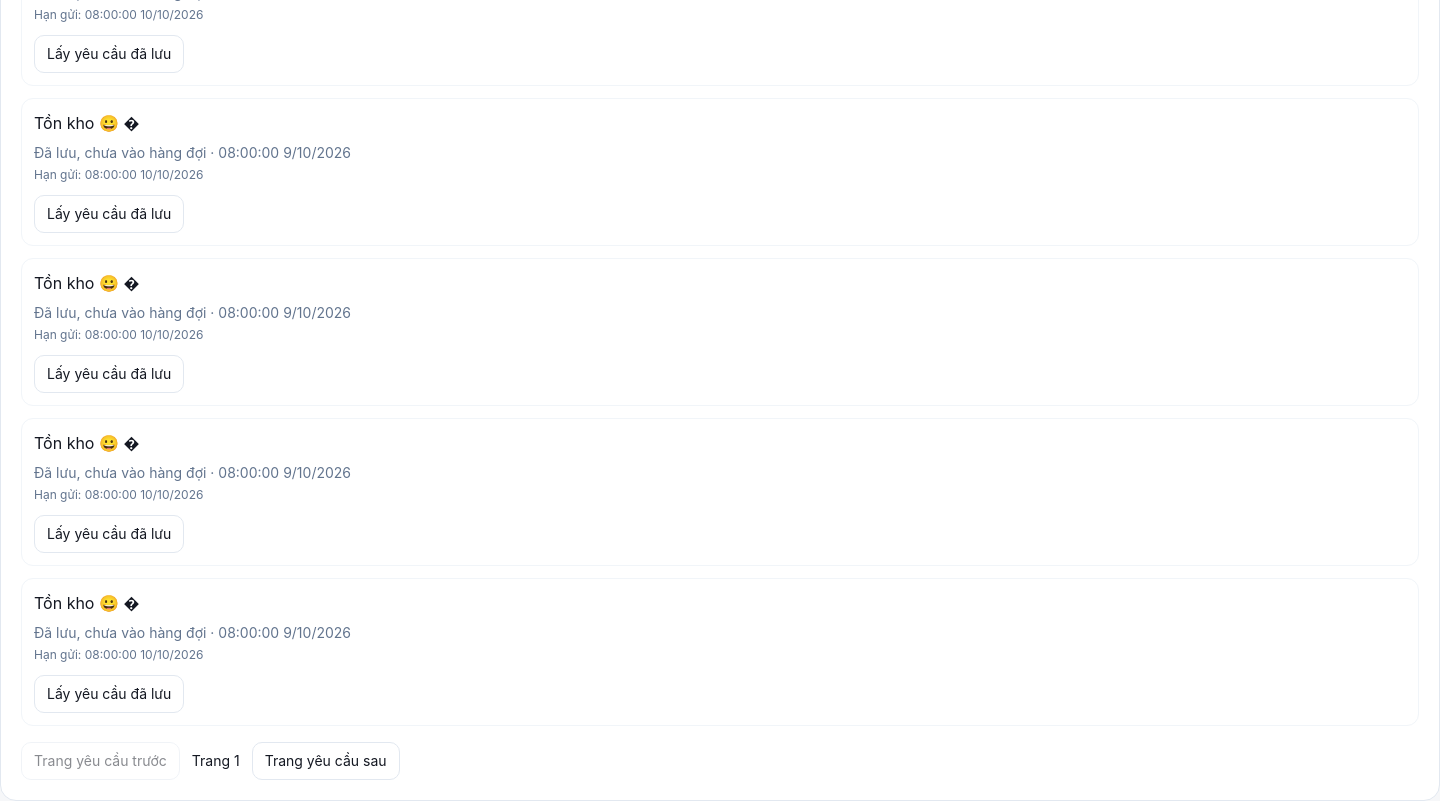
Scenario: paginates25 owners and verifies the requested offset
(page scrolled)
Expected: the text "Trang 1" is shown, [192,751,240,771]
Click the button "Trang yêu cầu sau" at (326, 761), box [252,742,400,780]
(page scrolled)
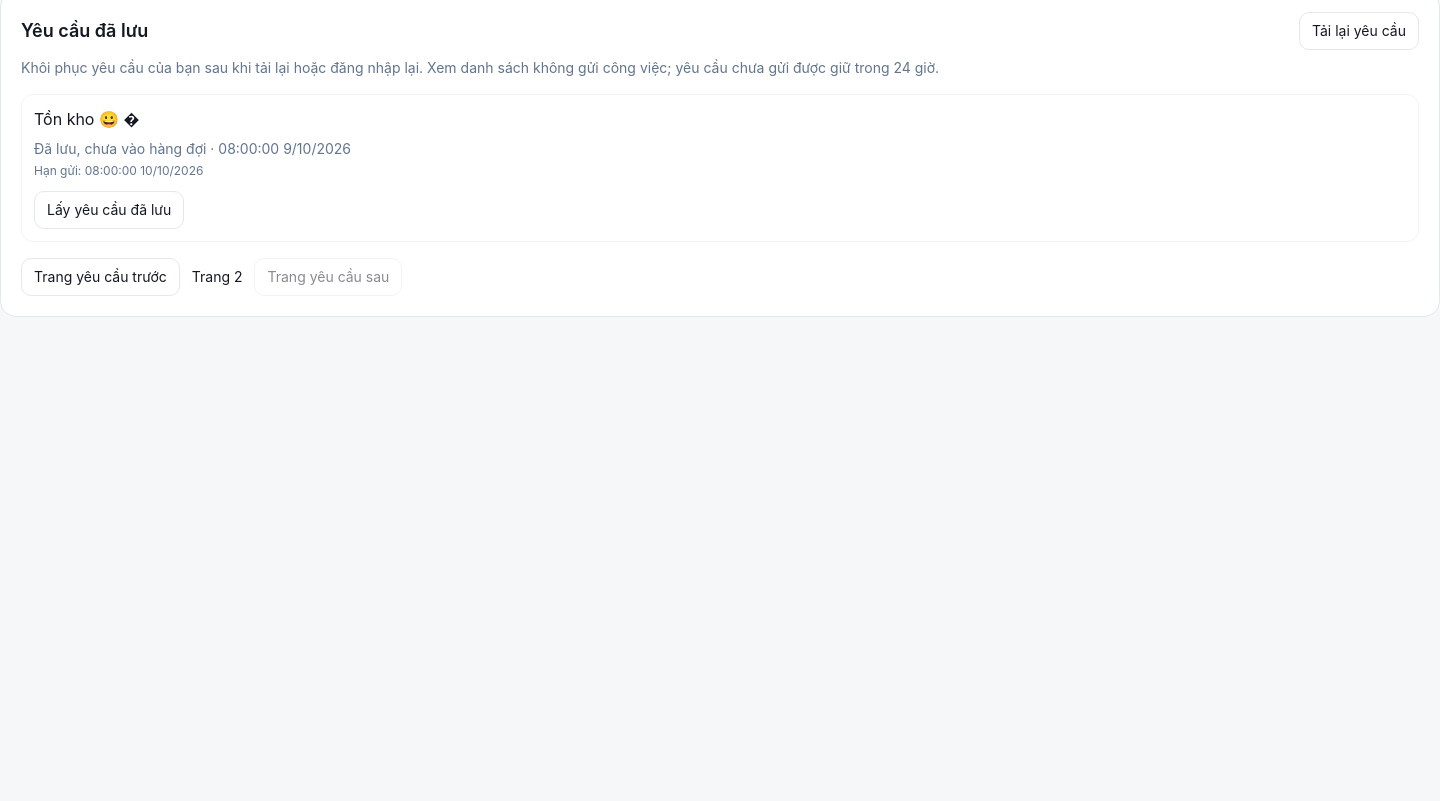
Now the text "Trang 2" is shown, box [192,267,242,287]
Click the button "Trang yêu cầu trước" at (100, 277), box [21,258,180,296]
(page scrolled)
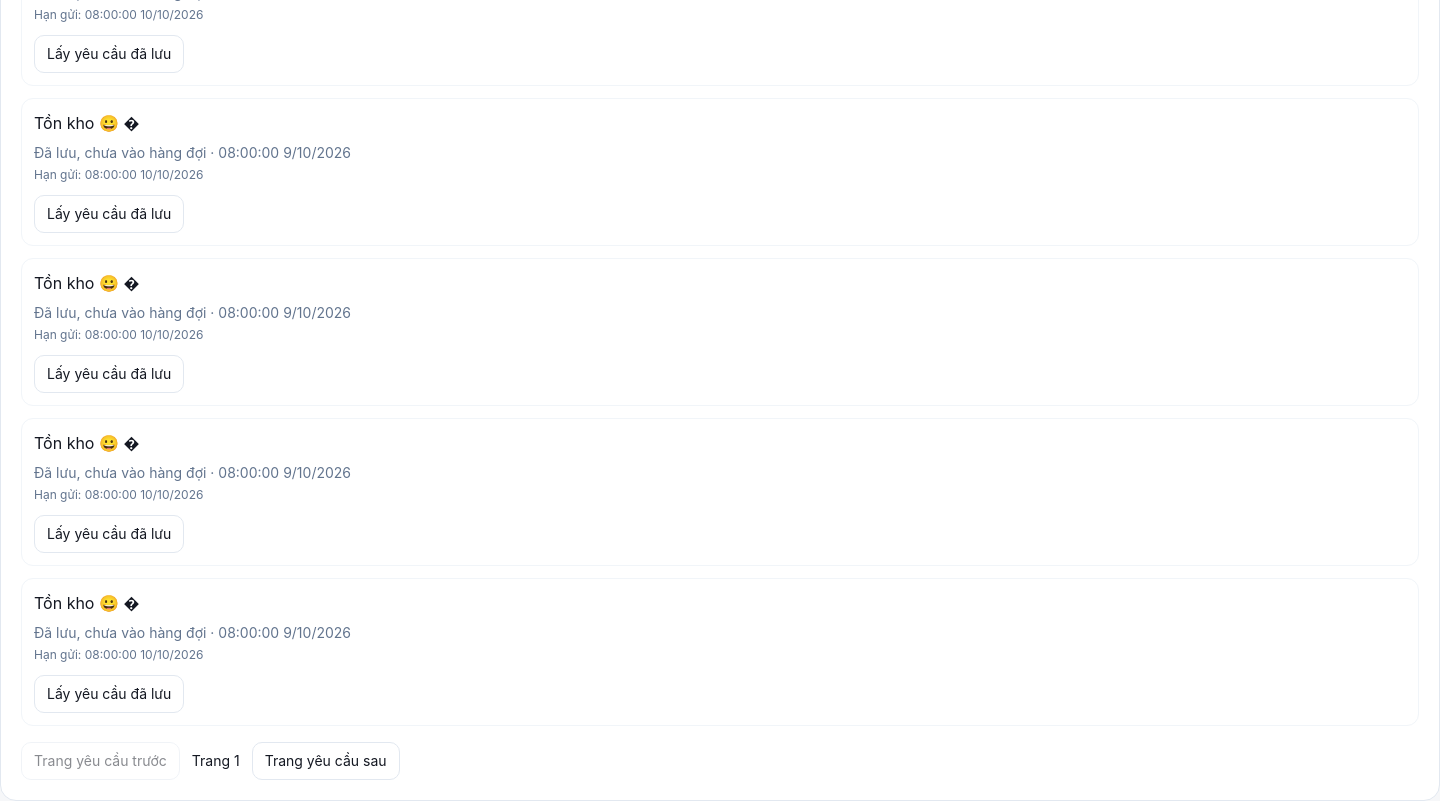
Now the text "Trang 1" is shown, box [192,751,240,771]
